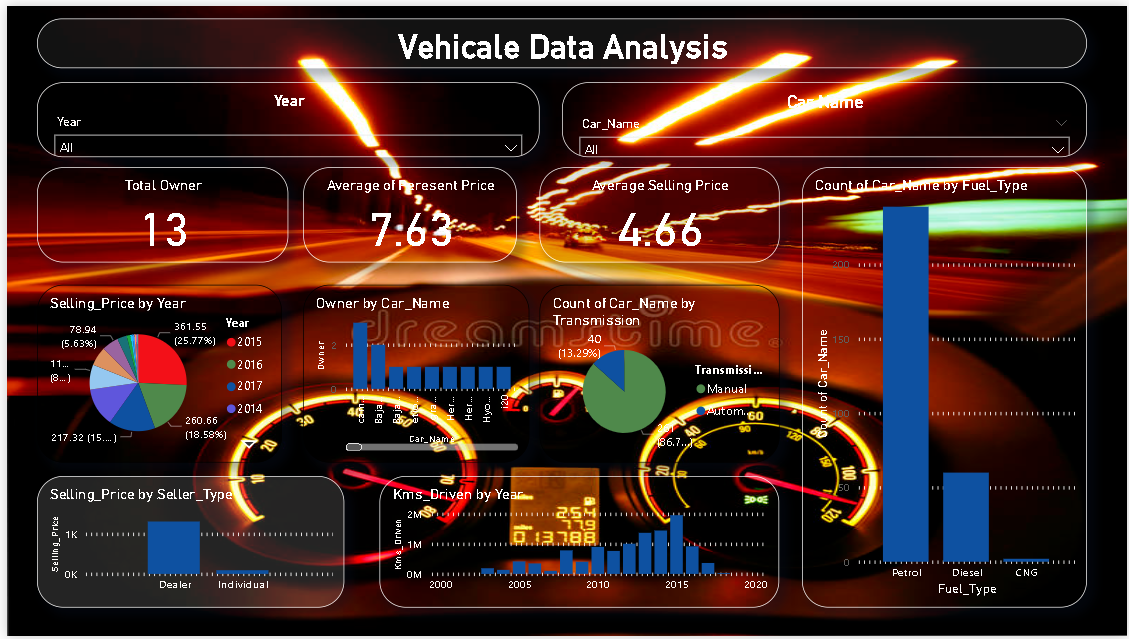

The page's visual inventory and layout, read from the dashboard file:
{"tool":"powerbi","page":{"name":"vehicle data analysis","canvas":[1280,720],"ordinal":1},"visuals":[{"type":"slicer","title":"Car Name","fields":{"Values":["car data.Car_Name"]},"box":[634.3,87.1,600,85.7],"z":0},{"type":"slicer","title":"Year","fields":{"Values":["car data.Year"]},"box":[34.3,87.1,574.3,85.7],"z":1000},{"type":"pieChart","fields":{"Category":["car data.Year"],"Y":["Sum(car data.Selling_Price)"]},"box":[34.3,318.6,280,202.9],"z":2000},{"type":"columnChart","fields":{"Category":["car data.Car_Name"],"Y":["Sum(car data.Owner)"]},"box":[338.6,318.6,258.6,202.9],"z":3000},{"type":"columnChart","fields":{"Category":["car data.Seller_Type"],"Y":["Sum(car data.Selling_Price)"]},"box":[34.3,537.1,351.4,150],"z":4000},{"type":"columnChart","fields":{"Category":["car data.Fuel_Type"],"Y":["CountNonNull(car data.Car_Name)"]},"box":[908.6,184.3,325.7,502.9],"z":5000},{"type":"columnChart","fields":{"Category":["car data.Year"],"Y":["Sum(car data.Kms_Driven)"]},"box":[425.7,537.1,457.1,150],"z":6000},{"type":"card","title":"Average of Peresent Price","fields":{"Values":["Avg(car data.Present_Price)"]},"box":[338.6,184.3,244.3,108.6],"z":7000},{"type":"card","title":"Average Selling Price","fields":{"Values":["Avg(car data.Selling_Price)"]},"box":[608.6,184.3,274.3,108.6],"z":8000},{"type":"pieChart","fields":{"Category":["car data.Transmission"],"Y":["CountNonNull(car data.Car_Name)"]},"box":[609,319,274,203],"z":9000},{"type":"textbox","title":"Vehicale Data Analysis","box":[34.3,14.3,1200,57.1],"z":10000},{"type":"card","title":"Total Owner","fields":{"Values":["Sum(car data.Owner)"]},"box":[34.3,184.3,287.1,108.6],"z":11000}]}

Visuals, with their boxes in screenshot pixels (x1, y1, x2, y2), scaled from the page's 1280x720 canvas onto the 1129x639 screenshot:
"Car Name" slicer: (left=559, top=77, right=1089, bottom=153)
"Year" slicer: (left=30, top=77, right=537, bottom=153)
pieChart - car data.Year x Sum(car data.Selling_Price): (left=30, top=283, right=277, bottom=463)
columnChart - car data.Car_Name x Sum(car data.Owner): (left=299, top=283, right=527, bottom=463)
columnChart - car data.Seller_Type x Sum(car data.Selling_Price): (left=30, top=477, right=340, bottom=610)
columnChart - car data.Fuel_Type x CountNonNull(car data.Car_Name): (left=801, top=164, right=1089, bottom=610)
columnChart - car data.Year x Sum(car data.Kms_Driven): (left=375, top=477, right=779, bottom=610)
"Average of Peresent Price" card: (left=299, top=164, right=514, bottom=260)
"Average Selling Price" card: (left=537, top=164, right=779, bottom=260)
pieChart - car data.Transmission x CountNonNull(car data.Car_Name): (left=537, top=283, right=779, bottom=463)
"Vehicale Data Analysis" textbox: (left=30, top=13, right=1089, bottom=63)
"Total Owner" card: (left=30, top=164, right=283, bottom=260)
